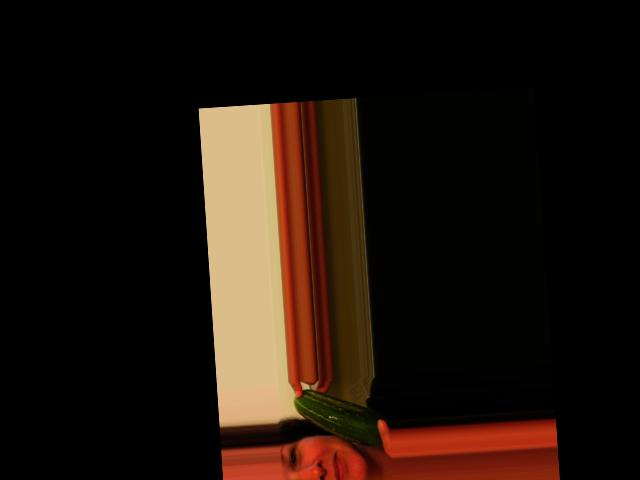cucumber: (292, 384, 391, 451)
